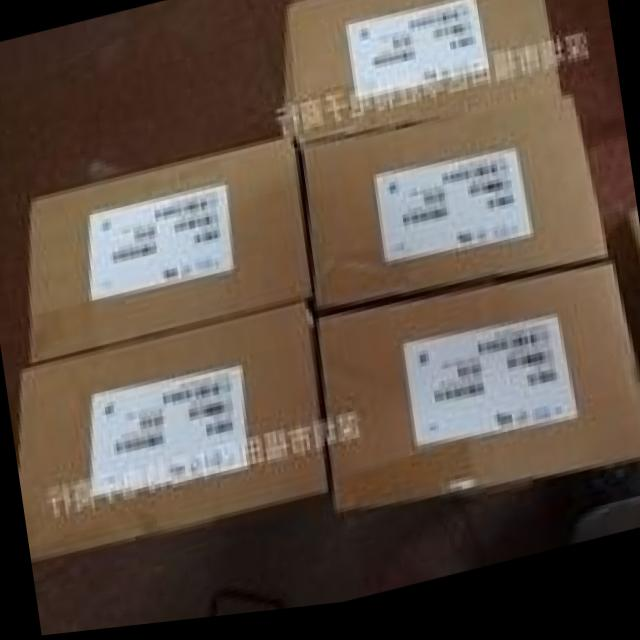box: (317, 272, 640, 524), (20, 304, 334, 563), (300, 108, 609, 319), (30, 143, 315, 364), (285, 0, 563, 153)
